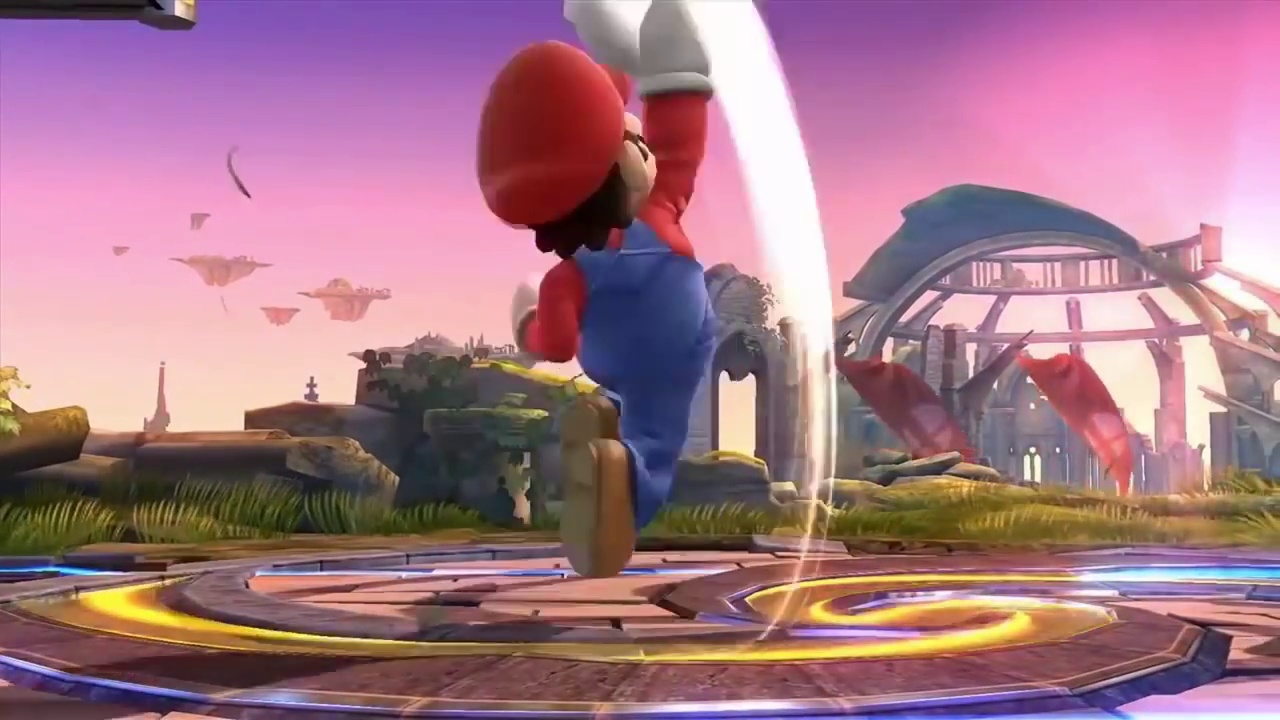Mario: (476, 1, 712, 579)
